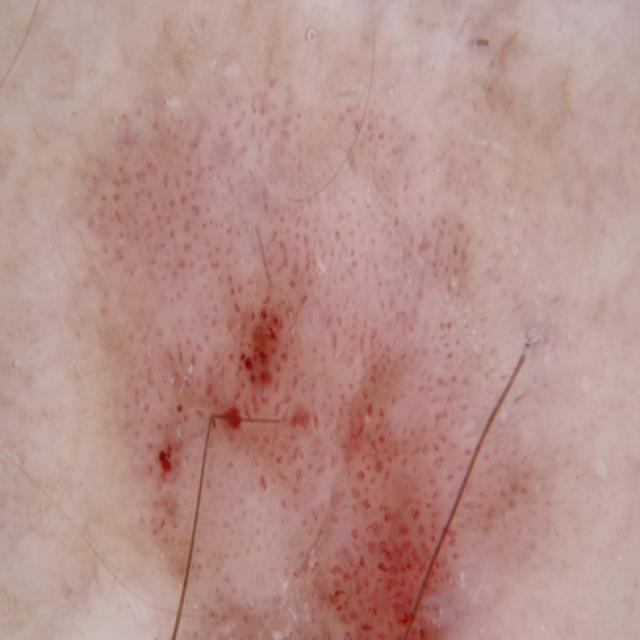Carcinoma: (105, 123, 467, 640)
